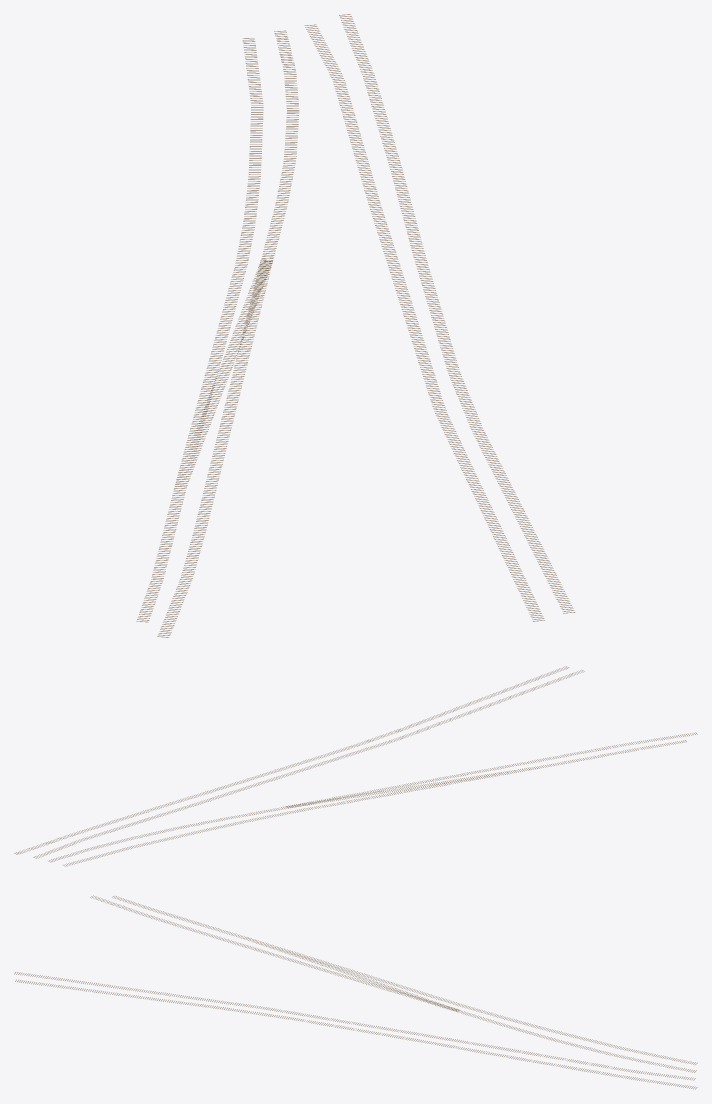
The model's file is c_1629_17833_rail_sleeper.glb.
3 renders of one model, top to bottom at view 1: azimuth 30°, elevation 25°; view 2: azimuth 150°, elevation 25°; view 3: azimuth 270°, elevation 25°, orthographic. The views are drawn at different scales.
Visible parts, largest first — view 1: geometry_0; view 2: geometry_0; view 3: geometry_0.
Boxes of the visible parts, x1=… form: geometry_0: x1=136, y1=14, x2=575, y2=637; geometry_0: x1=14, y1=666, x2=697, y2=866; geometry_0: x1=14, y1=895, x2=697, y2=1089.
Size of the model in its own units: 173 by 1.18 by 257.
